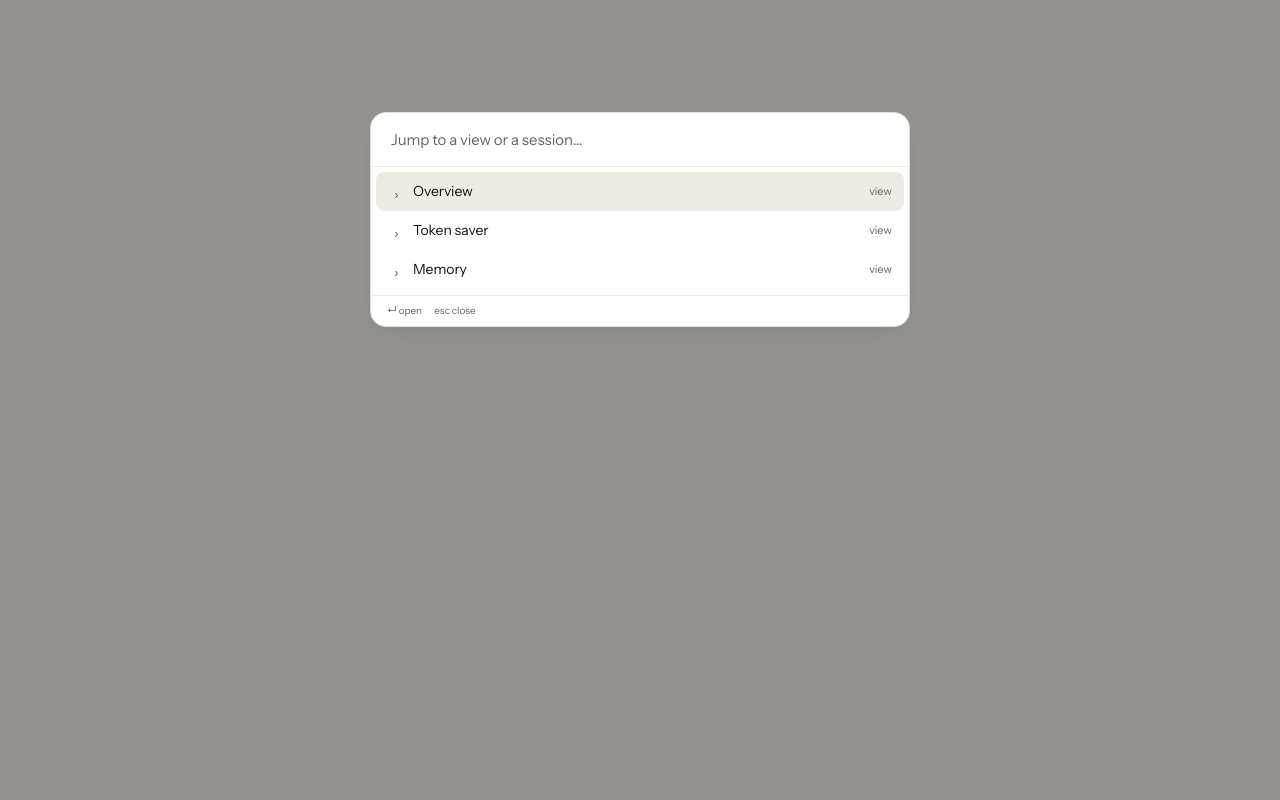
Test: CommandPalette › filters as you type and resets the highlight to the top
This screenshot has width=1280, height=800.
Press ArrowDown in the dialog, box [370,112,910,327]
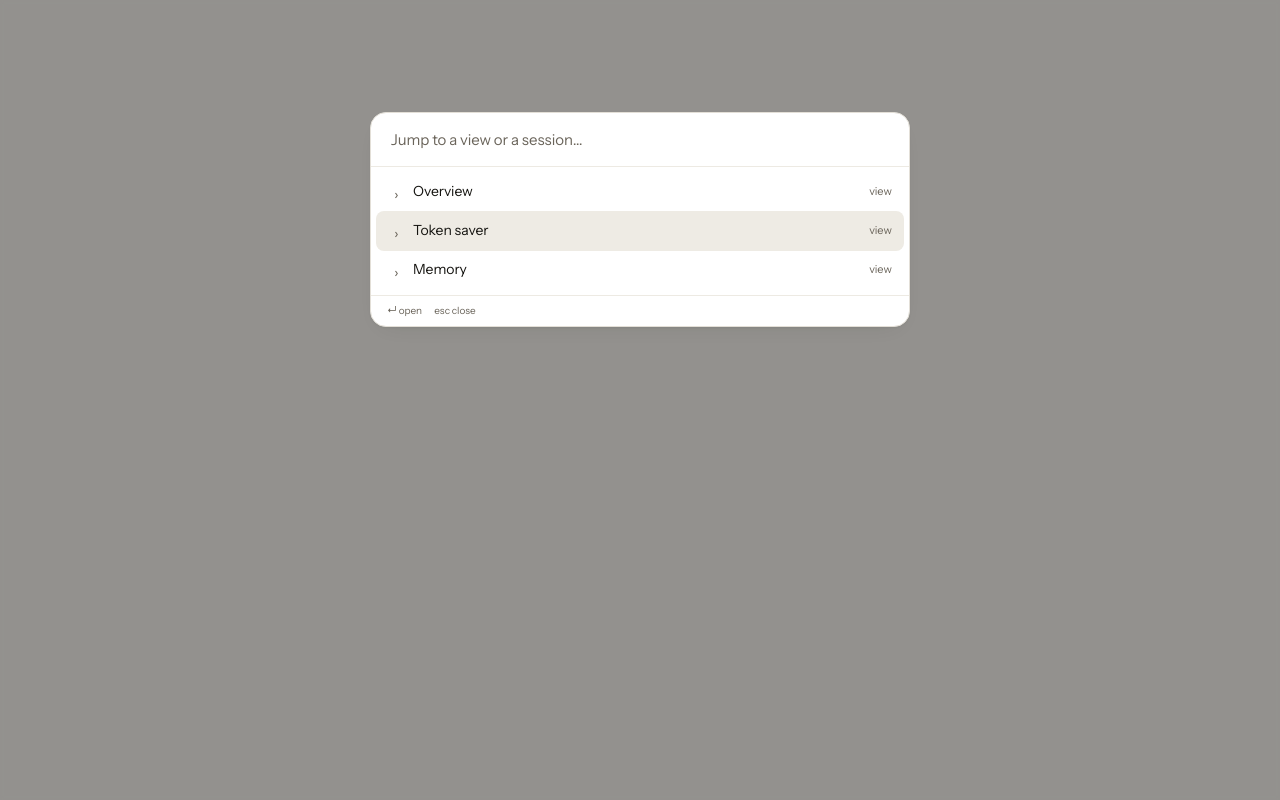
In the field named "Search commands": {"x": 640, "y": 140} [371,113,909,167], type "mem"
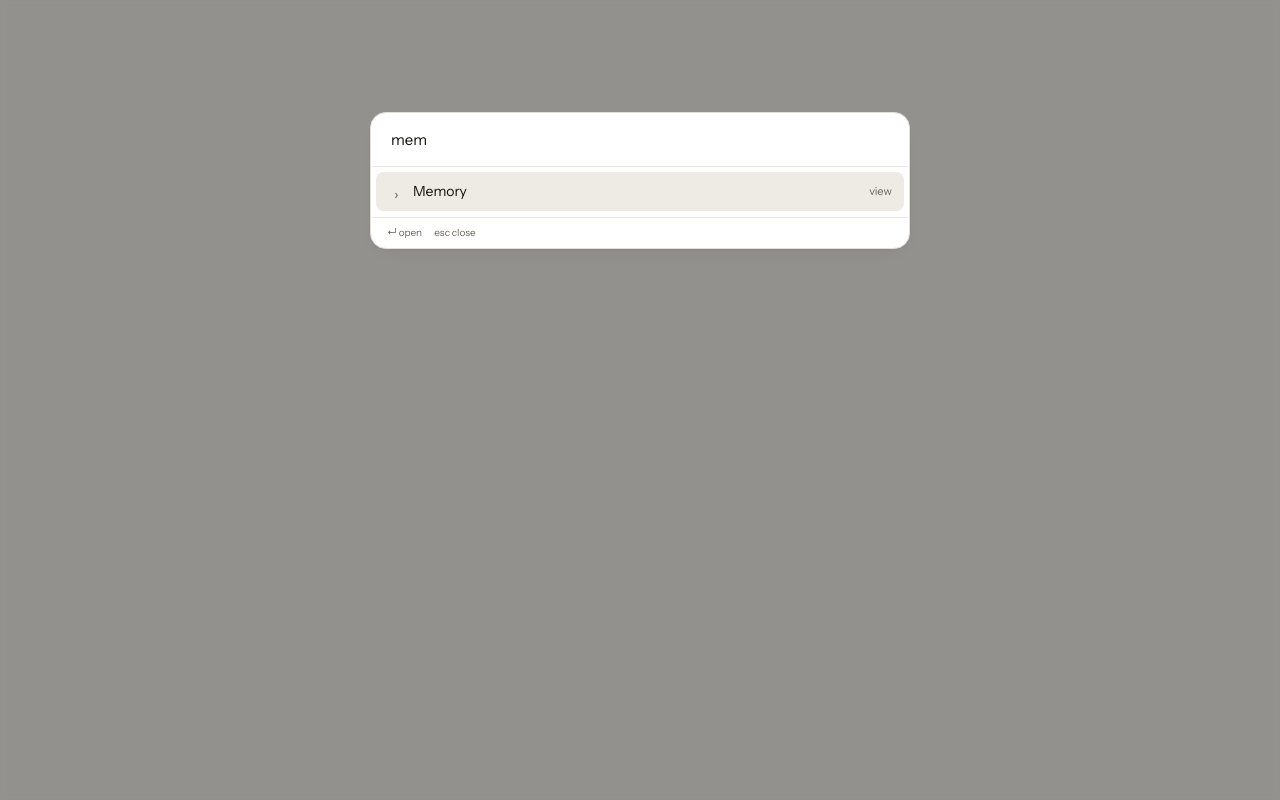
expect the button shows "Memory": met, box [376,172,904,212]
expect the number of buttons is 1: met, box [376,172,904,212]
